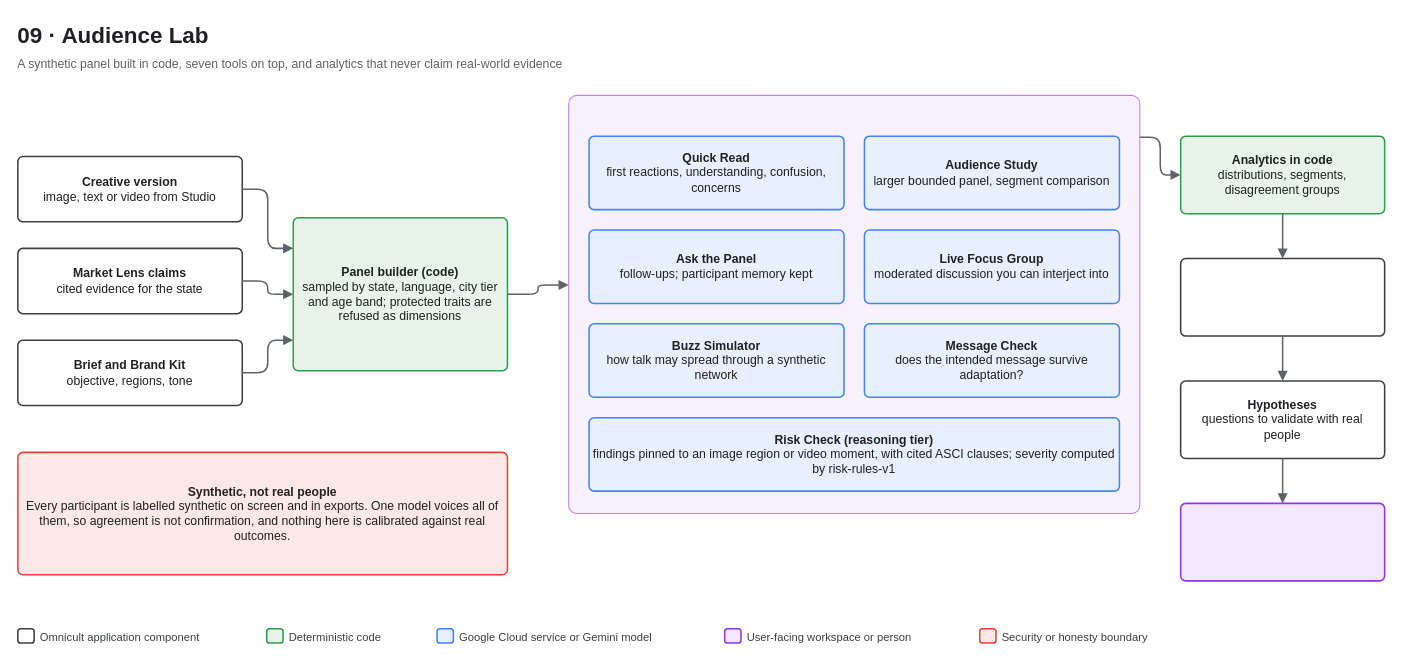
This 1404x663 diagram has some shape labels left out. The shapes that lost their labels are listed below. From the top down, each one's box as (x1, y1, x2, y2) in pixels, then its label:
(568, 94, 1140, 514): Audience Lab tools (all synthetic)
(1179, 257, 1385, 336): Findings reactions, confusion, concerns and open disagreements
(1179, 502, 1385, 581): Launch Room and Proof Vault readiness and report
